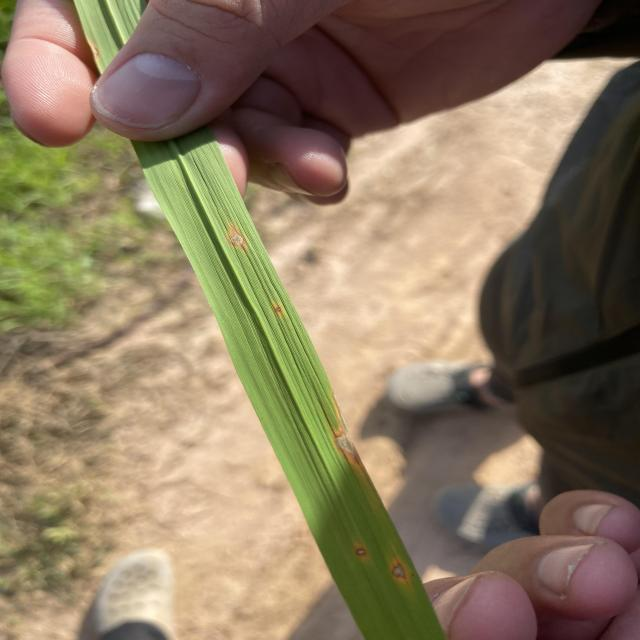Dao on: (335, 400, 363, 472), (391, 559, 410, 587), (229, 221, 246, 250), (355, 543, 370, 561), (274, 303, 282, 317)
